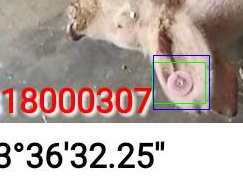text: (152, 62, 205, 103)
